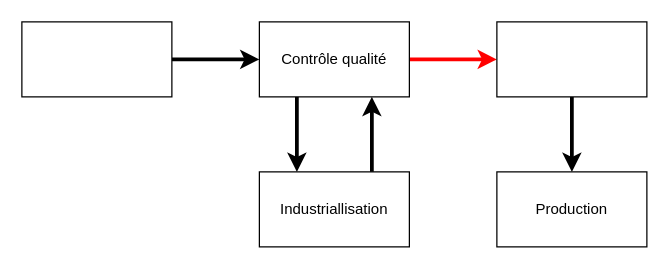
The diagram is 669 pixels wide and 269 high, and some of its shapes have lost their labels. Here are the shapes that lost their labels. From the top down, the centre of each, then its label:
point (96, 59): Réception
point (571, 59): Magasin
